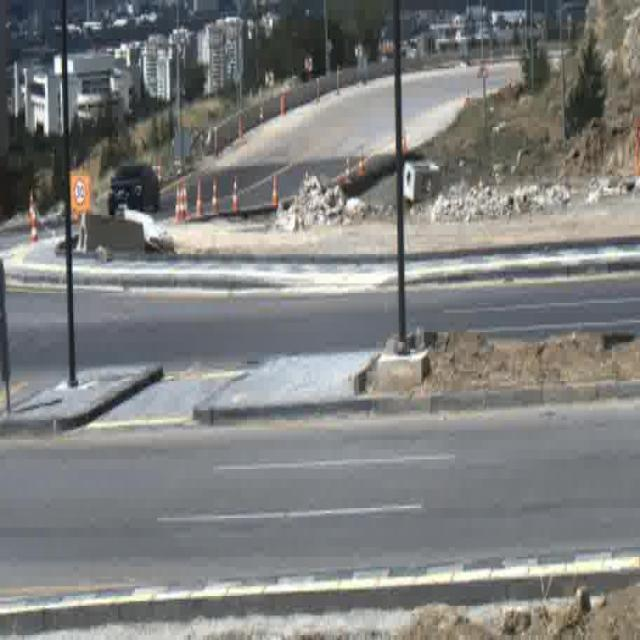Car: (107, 162, 162, 215)
